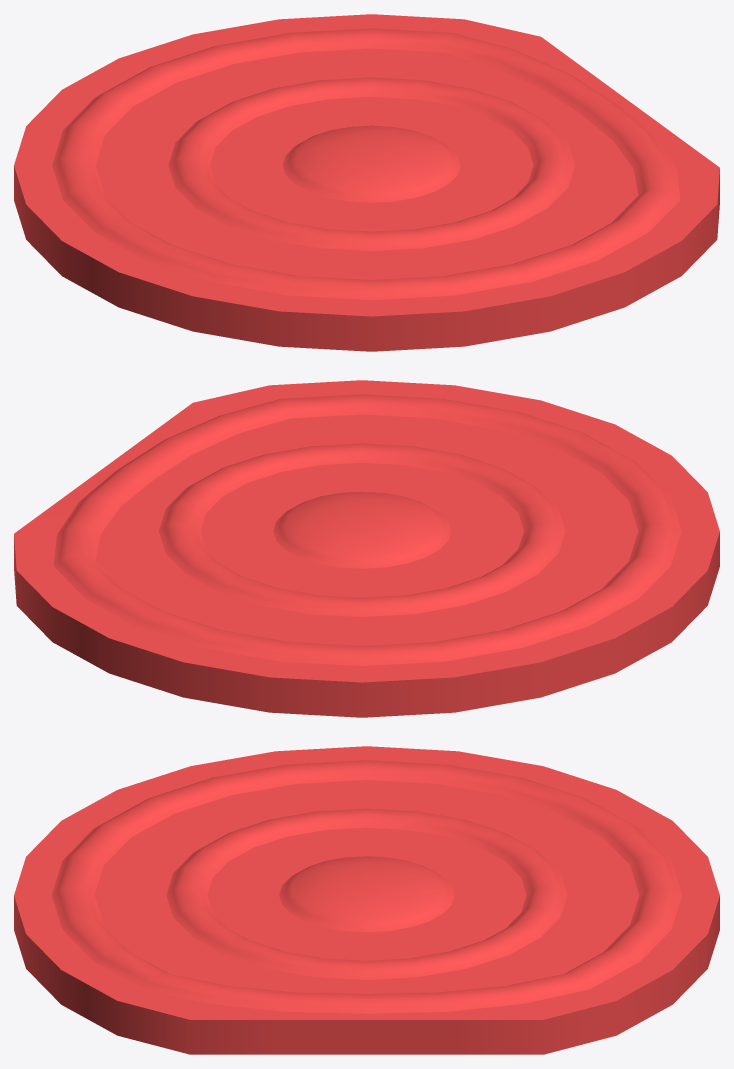
The model's file is target.FBX.
The picture shows the model from 3 angles, top to bottom: view 1: azimuth 30°, elevation 25°; view 2: azimuth 150°, elevation 25°; view 3: azimuth 270°, elevation 25°; orthographic projection.
Parts seen in each view (by area): view 1: target; view 2: target; view 3: target.
Boxes of the visible parts, left/top/right/bottom form: target: left=14, top=14, right=719, bottom=351; target: left=14, top=380, right=719, bottom=717; target: left=14, top=746, right=719, bottom=1054.
Bounding box in the file's own units: 14.92 × 1.63 × 16.25.
